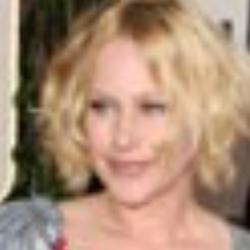face: (24, 2, 249, 212)
